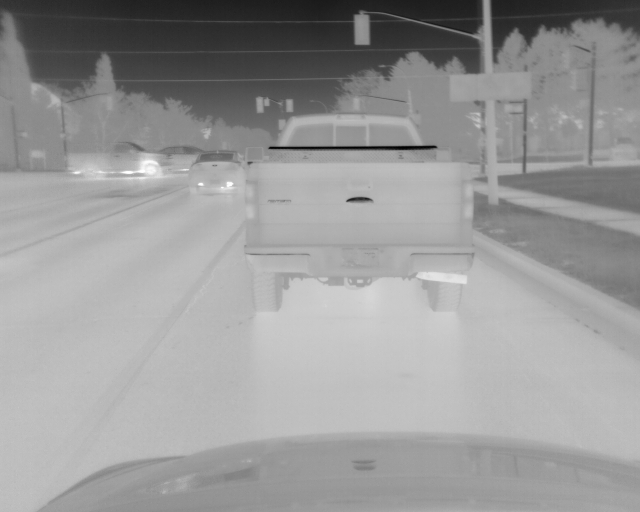car: (245, 112, 477, 315), (65, 139, 171, 180), (186, 149, 250, 195), (161, 145, 204, 171)
